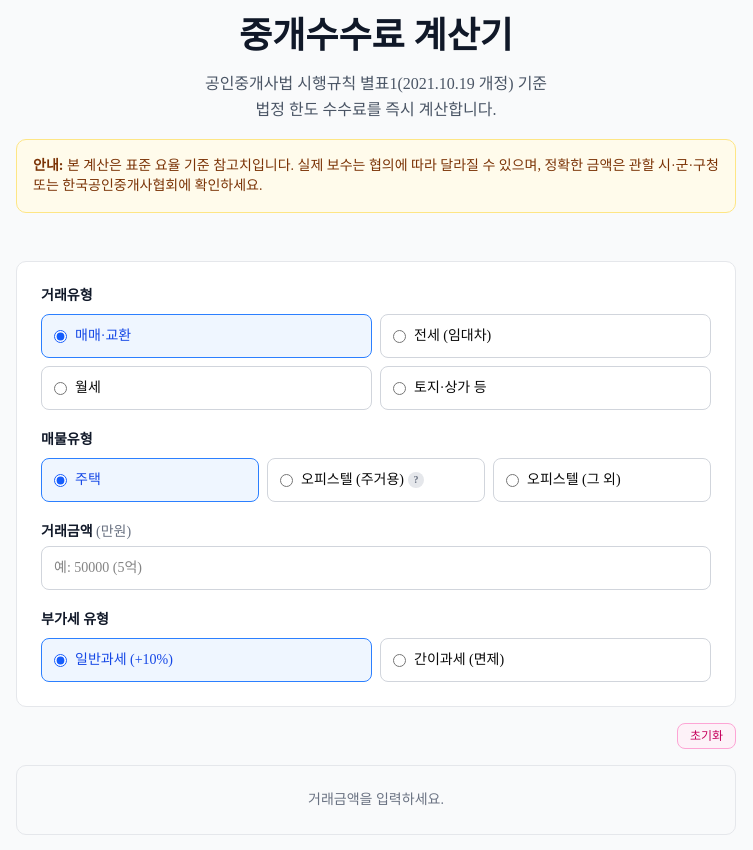
/tools/brokerage-fee 페이지 › 월세 모드 전환 → 보증금/월세 입력란이 노출된다
Click the radio button labelled "월세". click: [60, 388]
box: [54,382,67,394]
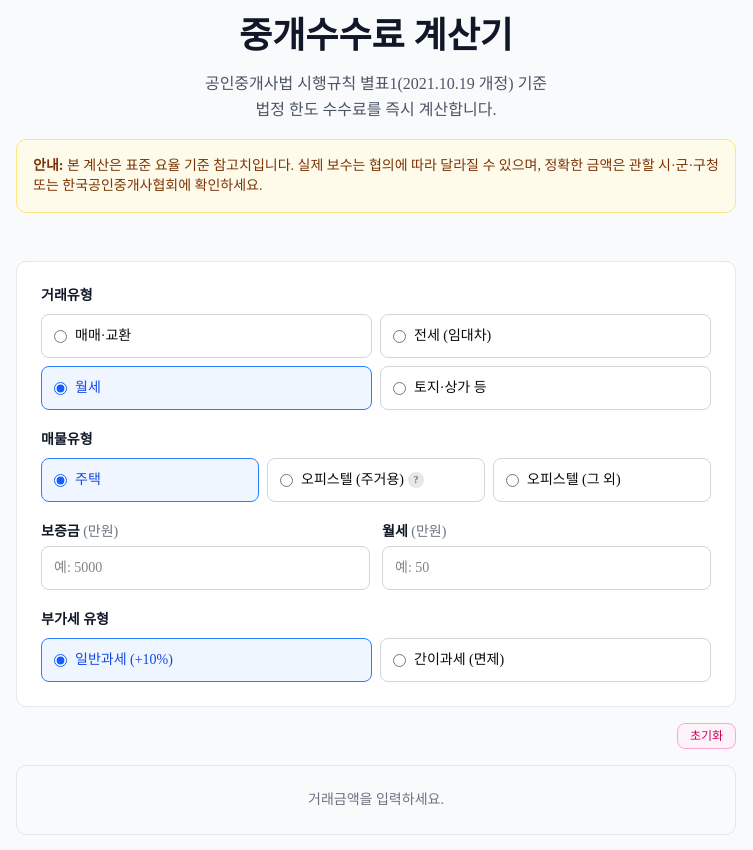
Check: the number field labelled "보증금 (만원)" is shown, box [41,546,370,590]
Check: the number field labelled "월세 (만원)" is shown, box [382,546,711,590]
